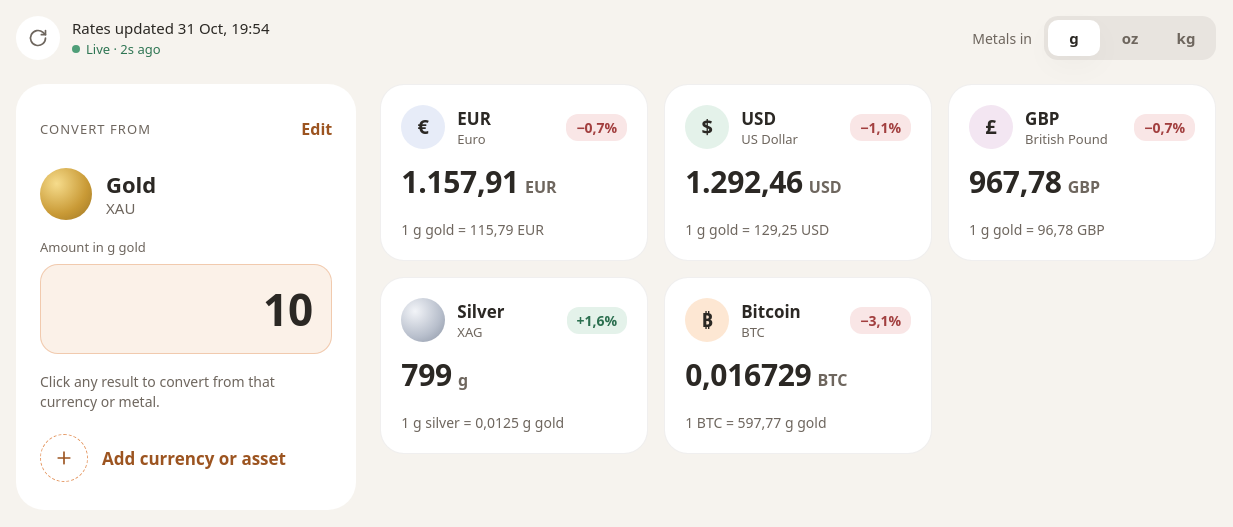
Test: App metal unit toggle › re-labels a metal base and converts its quantity (10 g -> 0,322 oz)
The image size is (1233, 527).
Click the radio button labelled "oz": (1130, 38) [1104, 20, 1156, 56]
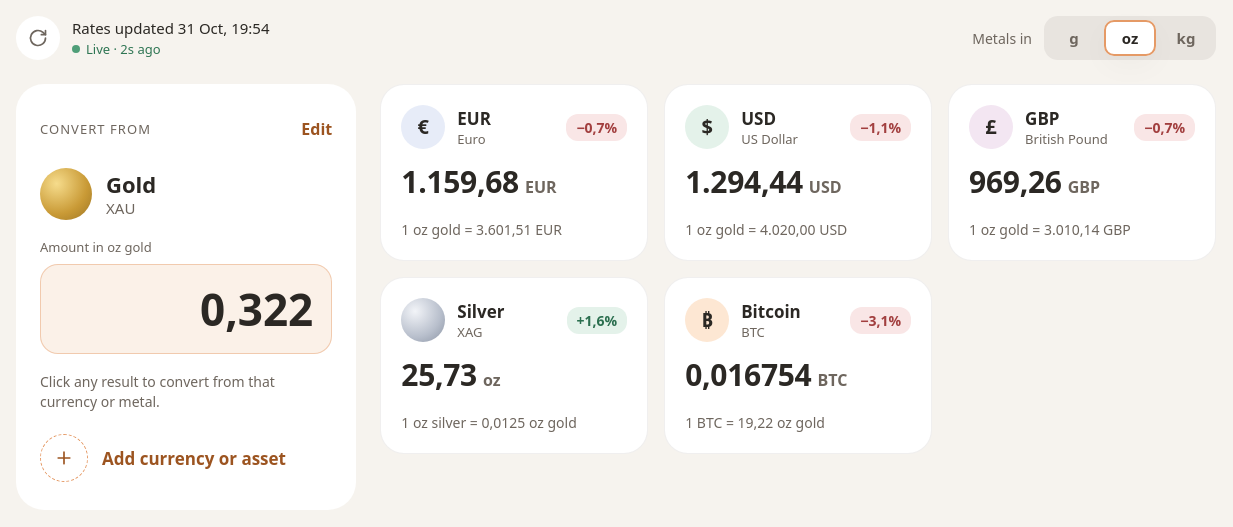
Expected: the field labelled "Amount in oz gold" holds "0,322", [40, 264, 332, 354]
